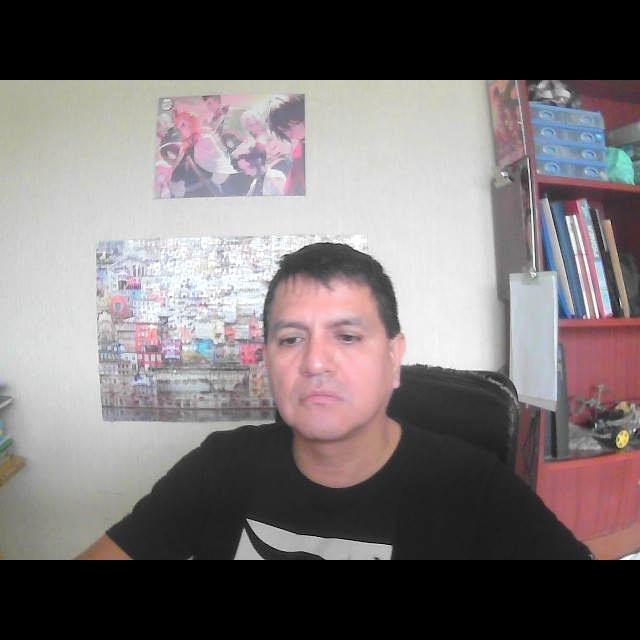cesar: (236, 228, 438, 508)
